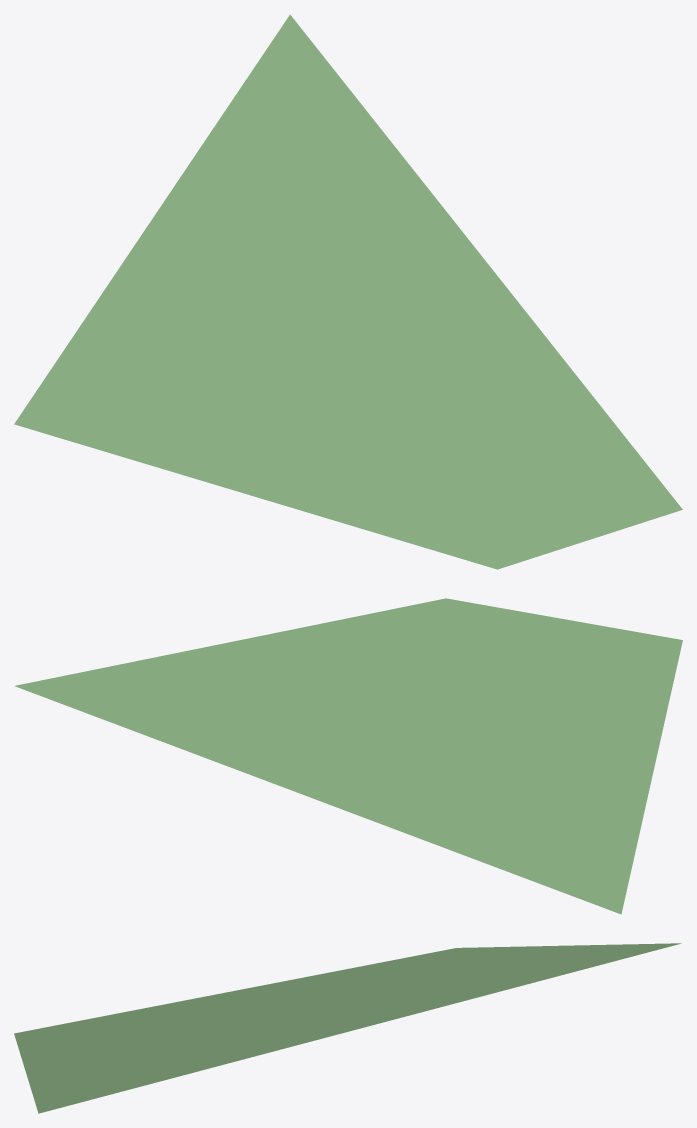
The model's file is L.BridgeEdge.L0.B0.P0.O_A1.O_BE0.0.fbx.
3 views of the same model, one above another, from view 1: azimuth 30°, elevation 25°; view 2: azimuth 150°, elevation 25°; view 3: azimuth 270°, elevation 25° (orthographic). The views are drawn at different scales.
Parts seen in each view (by area): view 1: L.BridgeEdge.L0.B0.P0.O_A1.O_BE0.0; view 2: L.BridgeEdge.L0.B0.P0.O_A1.O_BE0.0; view 3: L.BridgeEdge.L0.B0.P0.O_A1.O_BE0.0.
Boxes of the visible parts, bbox=[...] form: L.BridgeEdge.L0.B0.P0.O_A1.O_BE0.0: bbox=[14, 14, 682, 569]; L.BridgeEdge.L0.B0.P0.O_A1.O_BE0.0: bbox=[14, 598, 682, 914]; L.BridgeEdge.L0.B0.P0.O_A1.O_BE0.0: bbox=[14, 943, 681, 1113].
Bounding box in the file's own units: 0.2085 × 0.3556 × 0.1.
